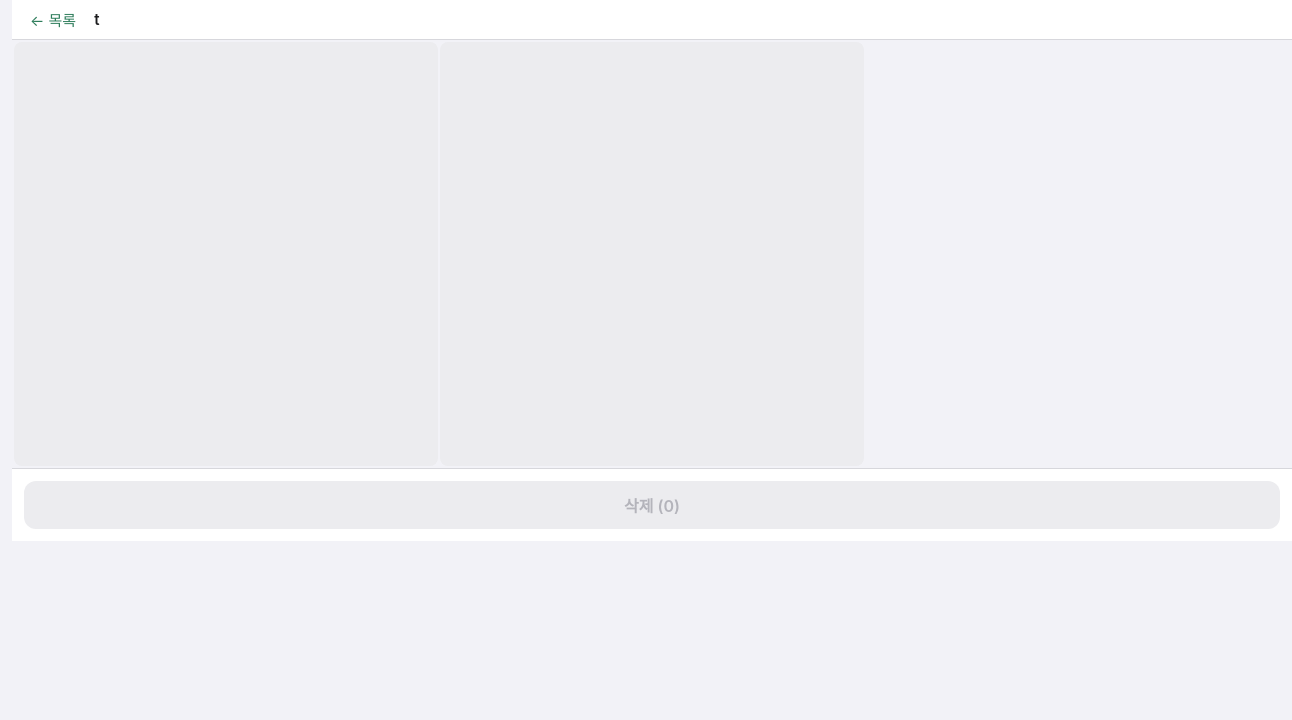
Test: PhotoSelectScreen › 선택 → 카운트 갱신 + 활성
Click the button named "사진 선택 a" at (226, 254), box [14,42,438,466]
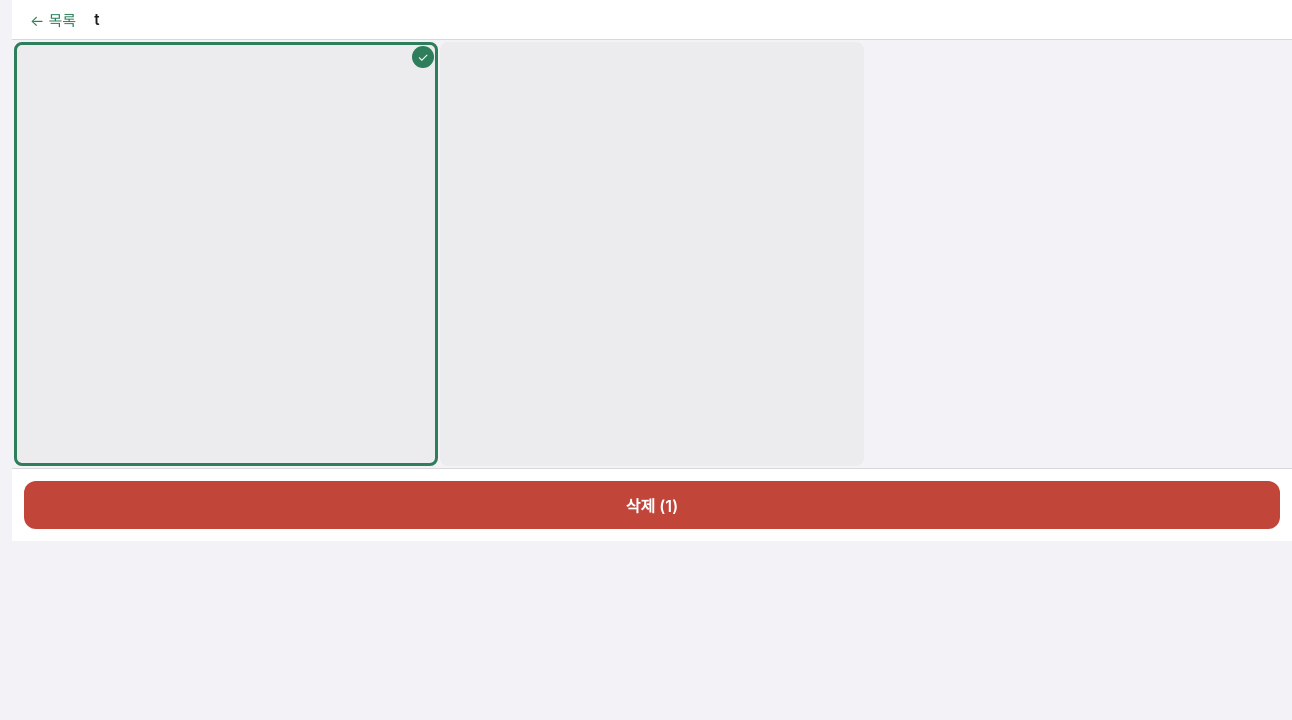
Result: the button "삭제 (1)" is enabled at [24,481,1280,529]
